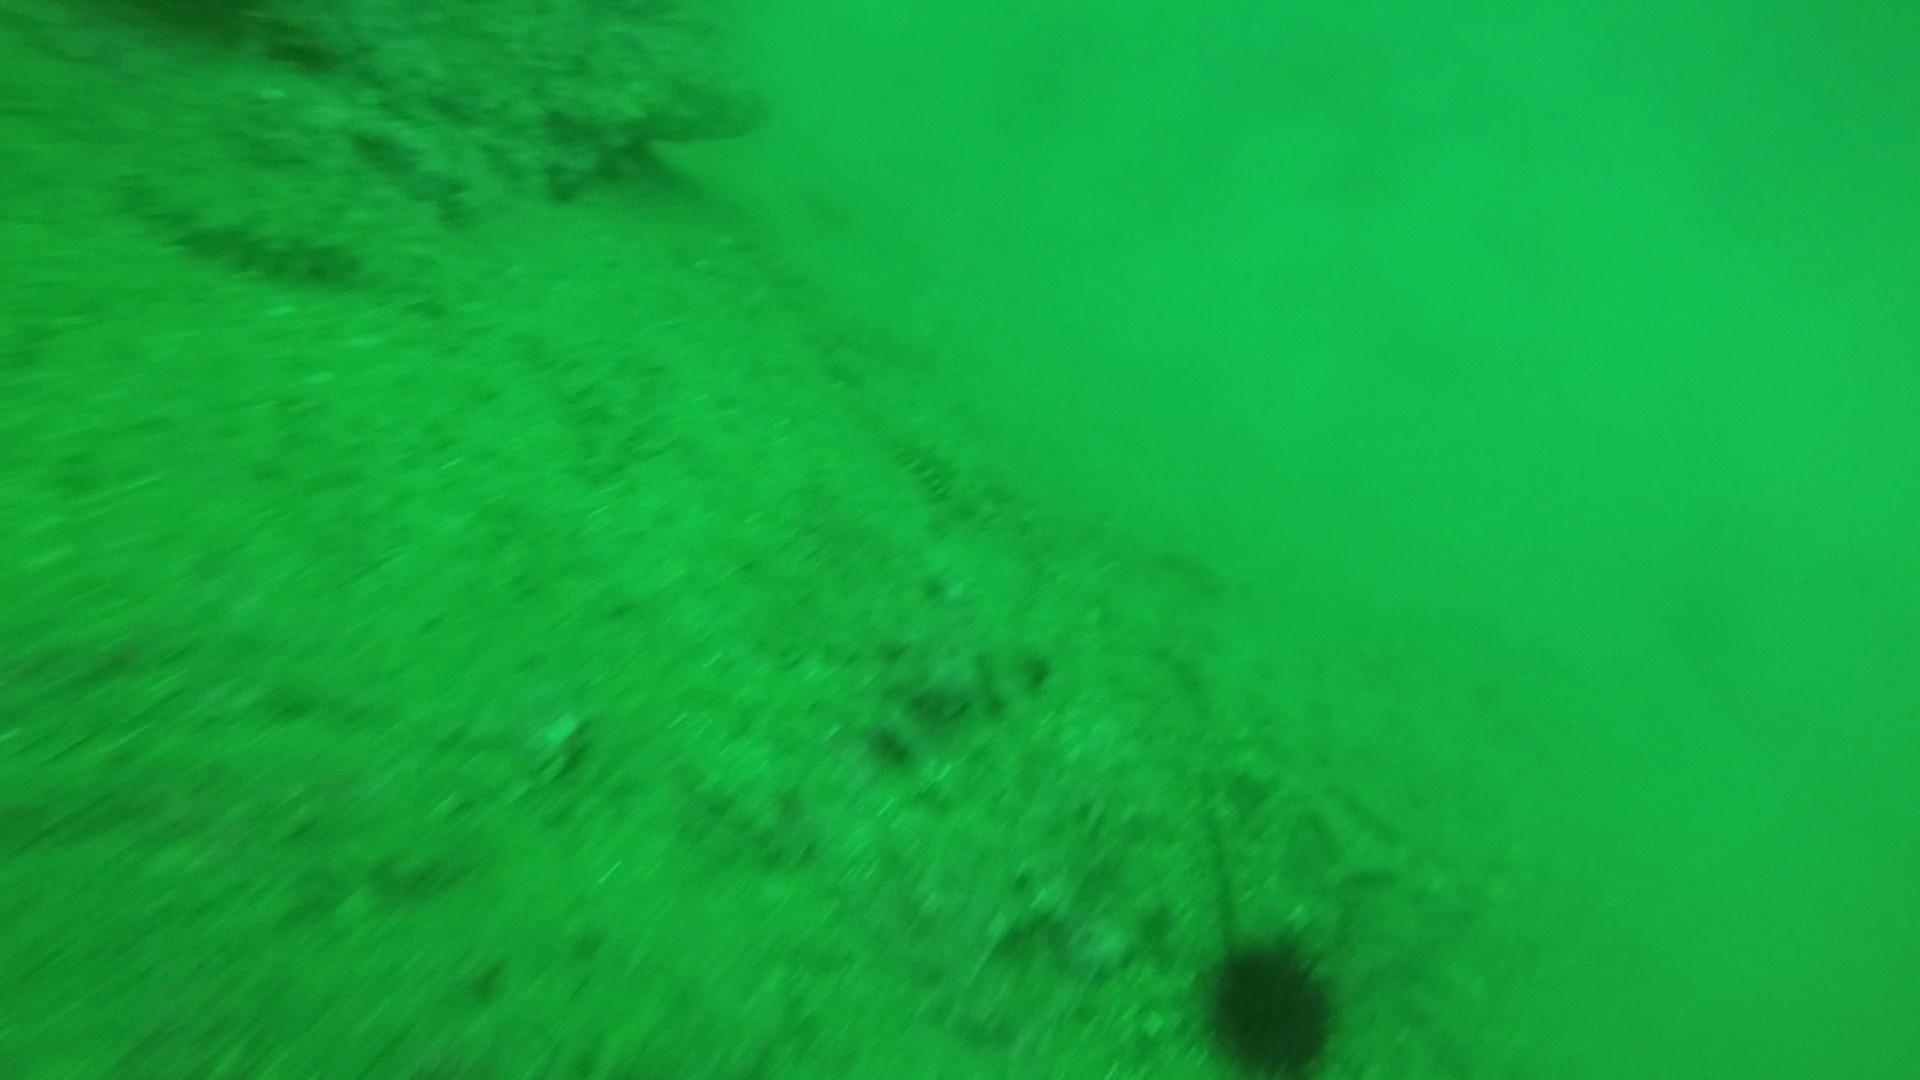echinus: (1192, 927, 1346, 1073)
holothurian: (154, 196, 369, 291), (886, 421, 1010, 527)
